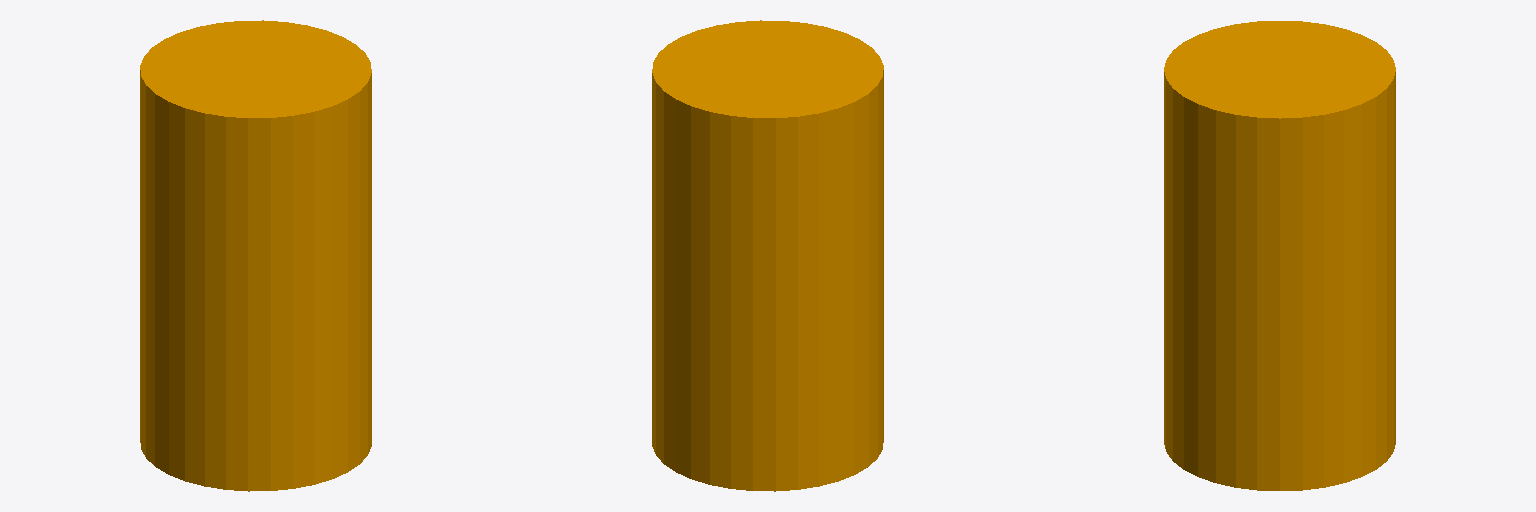
robot.urdf — cilindro:
<?xml version="1.0"?>
<!-- Componente "cilindro" de la biblioteca del contrato 2.0. Origen = centro geométrico. -->
<robot name="cilindro">
  <link name="cilindro">
    <visual><geometry><cylinder radius="0.0451" length="0.16"/></geometry></visual>
    <collision><geometry><cylinder radius="0.0451" length="0.16"/></geometry></collision>
  </link>
</robot>

--- Facts derived from the render (not from the file) ---
The picture shows the robot from 3 angles, left to right: view 1: azimuth 30°, elevation 25°; view 2: azimuth 150°, elevation 25°; view 3: azimuth 270°, elevation 25°; orthographic projection.
Robot: cilindro — 1 links, 0 joints (none); root link cilindro; default pose: every joint at zero.
Links seen in each view (by area): view 1: cilindro; view 2: cilindro; view 3: cilindro.
Link boxes in pixels (x1,y1,x2,y2): cilindro: [140, 20, 371, 491]; cilindro: [652, 20, 883, 491]; cilindro: [1164, 21, 1395, 490].
Size in the robot's own frame: 0.0902 by 0.0902 by 0.16 metres.
Geometry: primitives only (box / cylinder / sphere), no mesh files.
